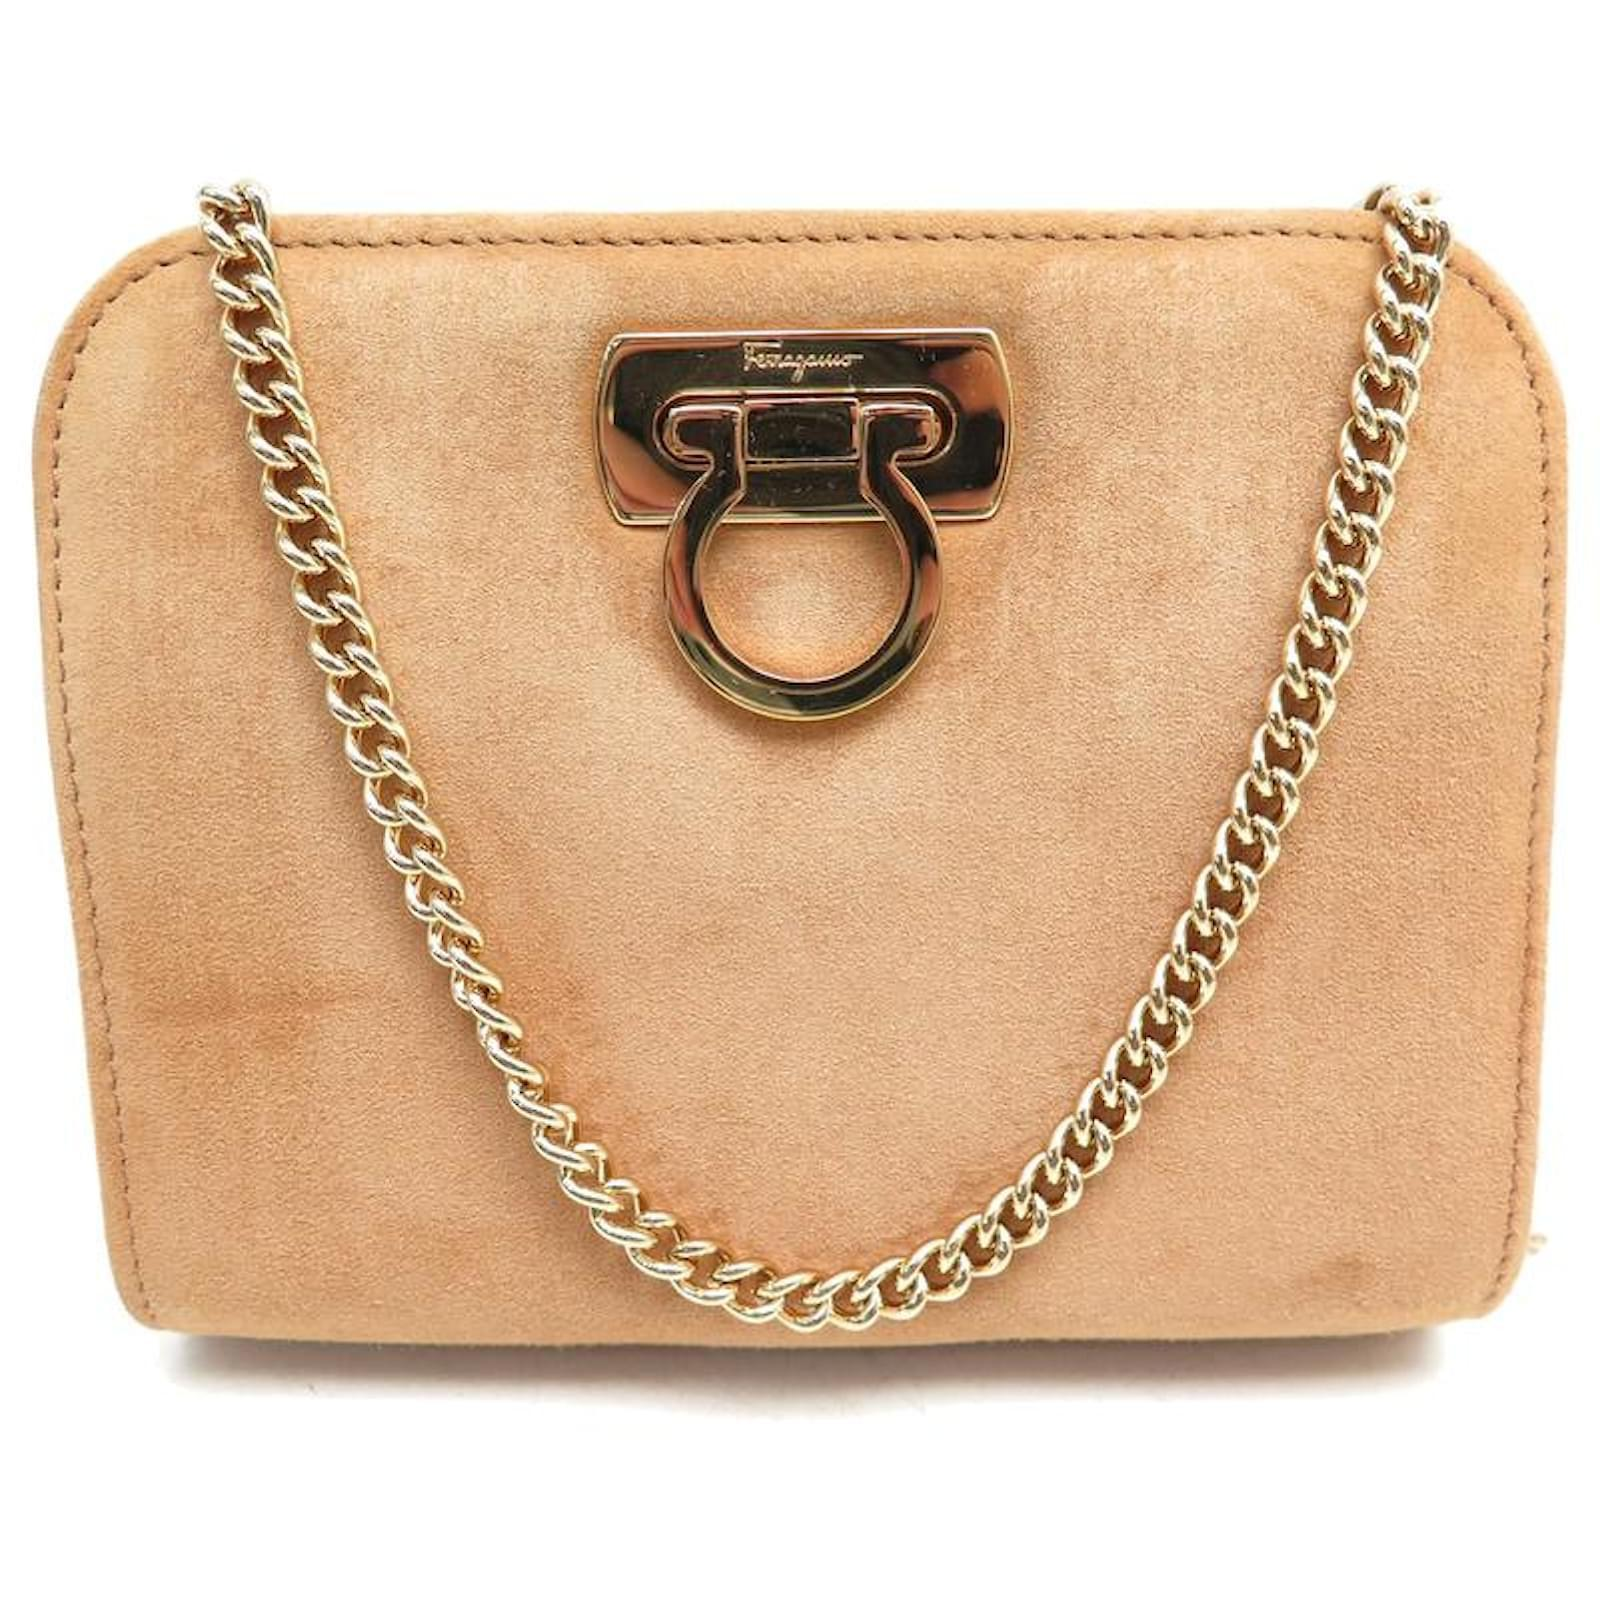FERRAGAMO: (586, 302, 1036, 762)
